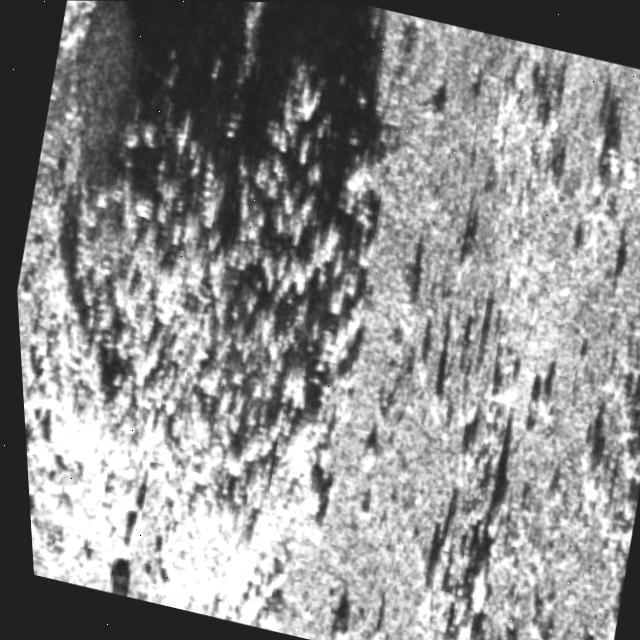bedrock group: (1, 22, 428, 639)
